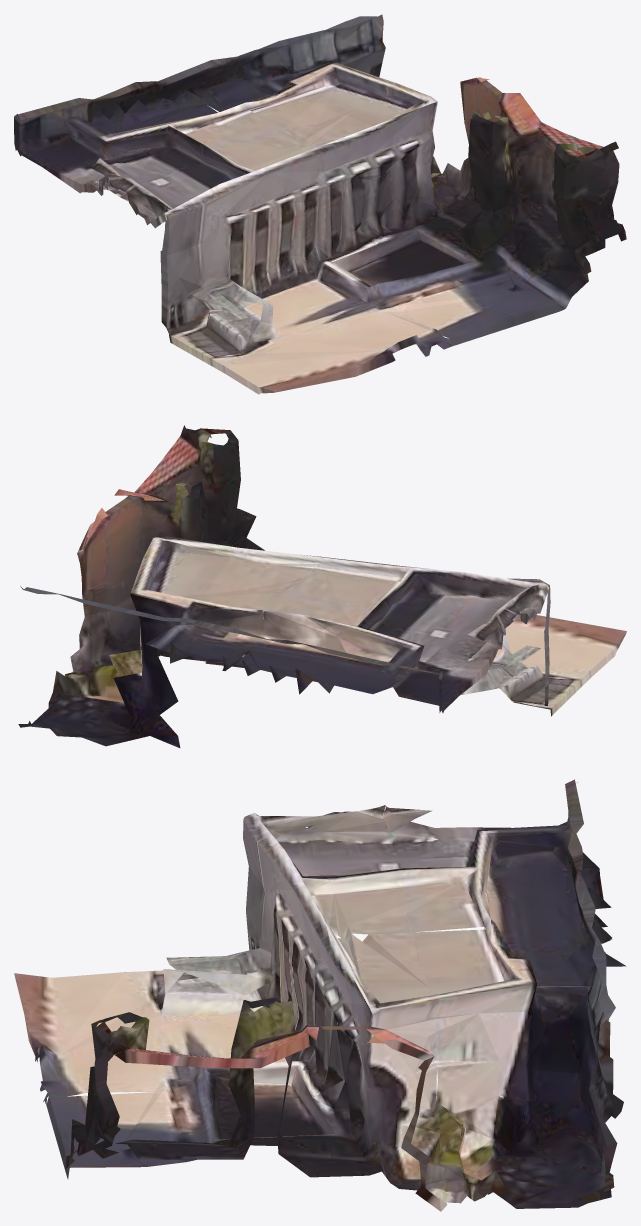
The picture shows the model from 3 angles, top to bottom: view 1: azimuth 30°, elevation 25°; view 2: azimuth 150°, elevation 25°; view 3: azimuth 270°, elevation 25°; orthographic projection. The views are drawn at different scales.
Parts seen in each view (by area): view 1: Mesh_0; view 2: Mesh_0; view 3: Mesh_0.
Boxes of the visible parts, x1=… form: Mesh_0: x1=14, y1=14, x2=626, y2=394; Mesh_0: x1=18, y1=425, x2=626, y2=747; Mesh_0: x1=14, y1=779, x2=626, y2=1211.
Size of the model in its own units: 32.6 by 10.8 by 31.55.
Materials: 1 (1 with a texture image).
